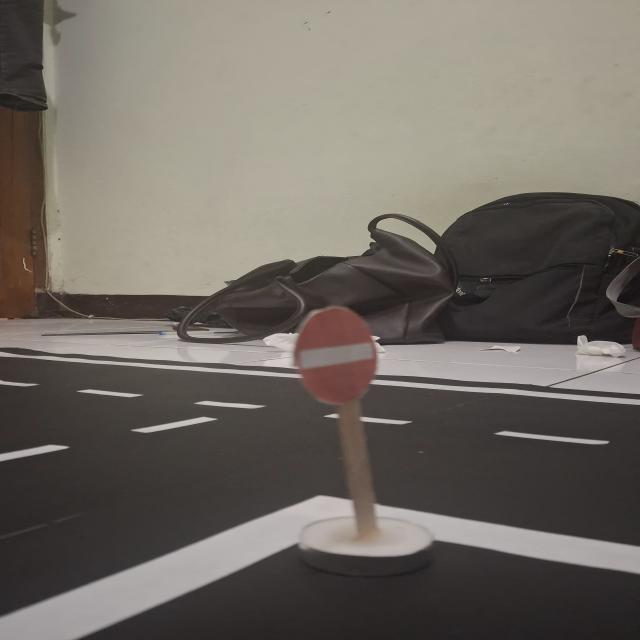Dilarang Masuk: (294, 307, 376, 402)
